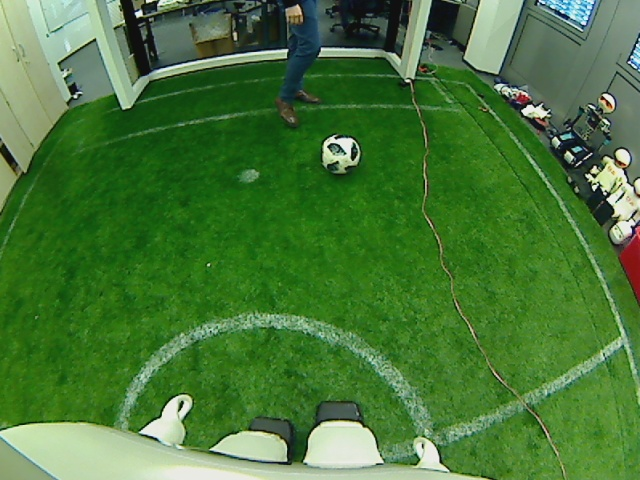ball: (319, 132, 364, 174)
